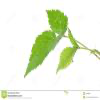Strawberry leaf: (23, 30, 57, 78), (55, 46, 76, 76), (45, 8, 69, 33)
